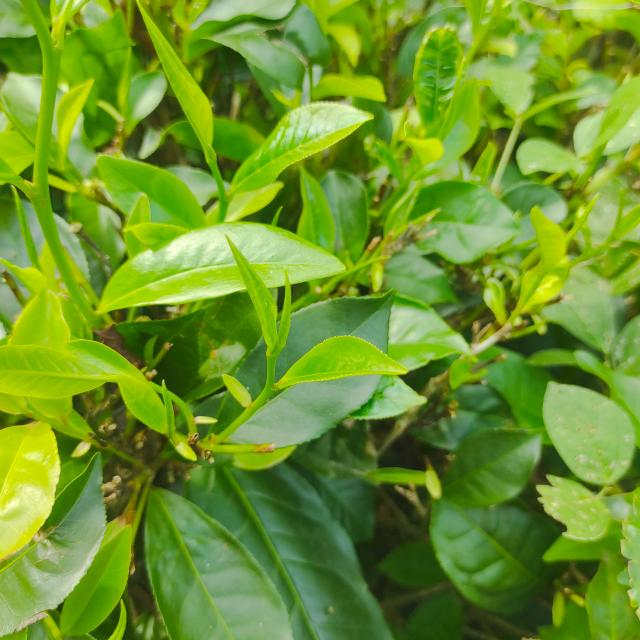unopened_leaf: (562, 185, 612, 248), (269, 260, 296, 368), (382, 205, 449, 246), (154, 371, 180, 448)
